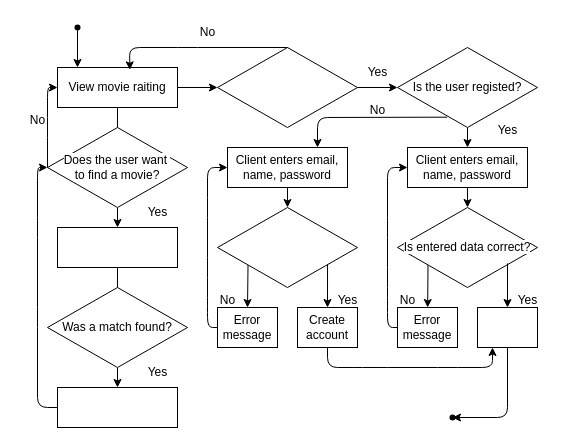
The diagram is 564 pixels wide and 445 high, and some of its shapes have lost their labels. The shapes that lost their labels are listed below. From the top down, each one's centre as x and y in pixels, then its label:
[287,87]: Does the user want to log in?
[117,247]: Enter data into search bar
[287,247]: Is email unique?
[507,327]: Succes log in
[117,407]: View query result
